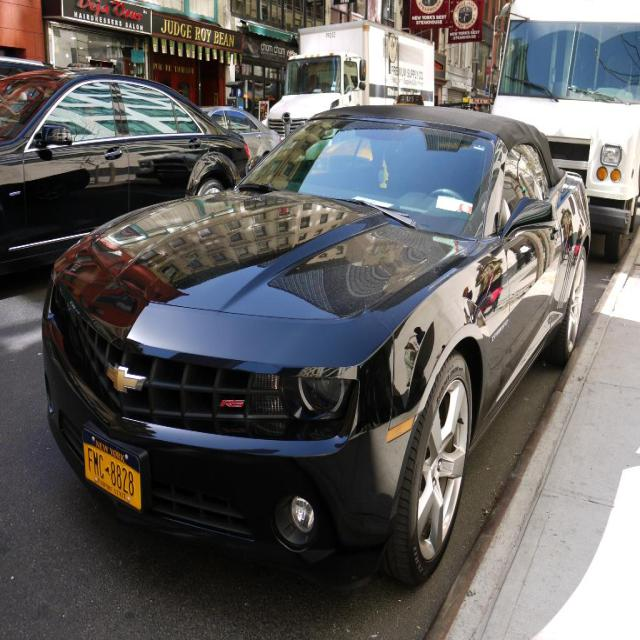Car: (0, 54, 591, 599)
